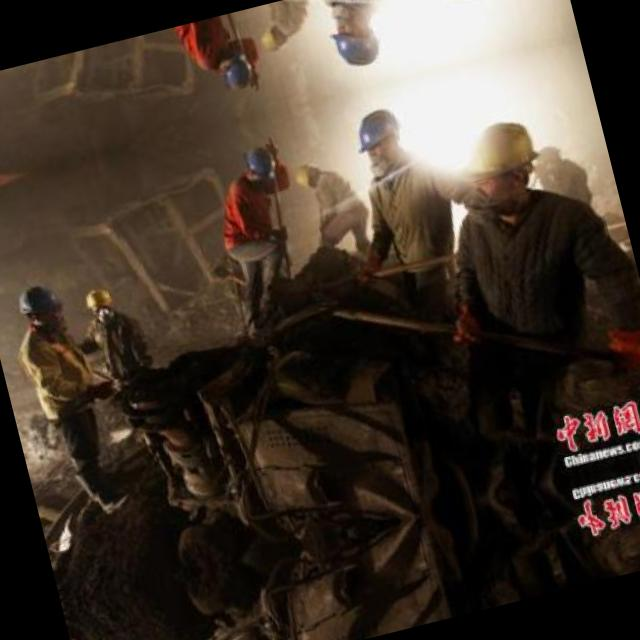helmet: (442, 106, 556, 222), (344, 94, 422, 182), (318, 0, 396, 80), (12, 272, 72, 339), (239, 142, 281, 192), (214, 44, 256, 94), (401, 0, 505, 18), (76, 279, 116, 323), (288, 154, 328, 192), (256, 21, 296, 58)
